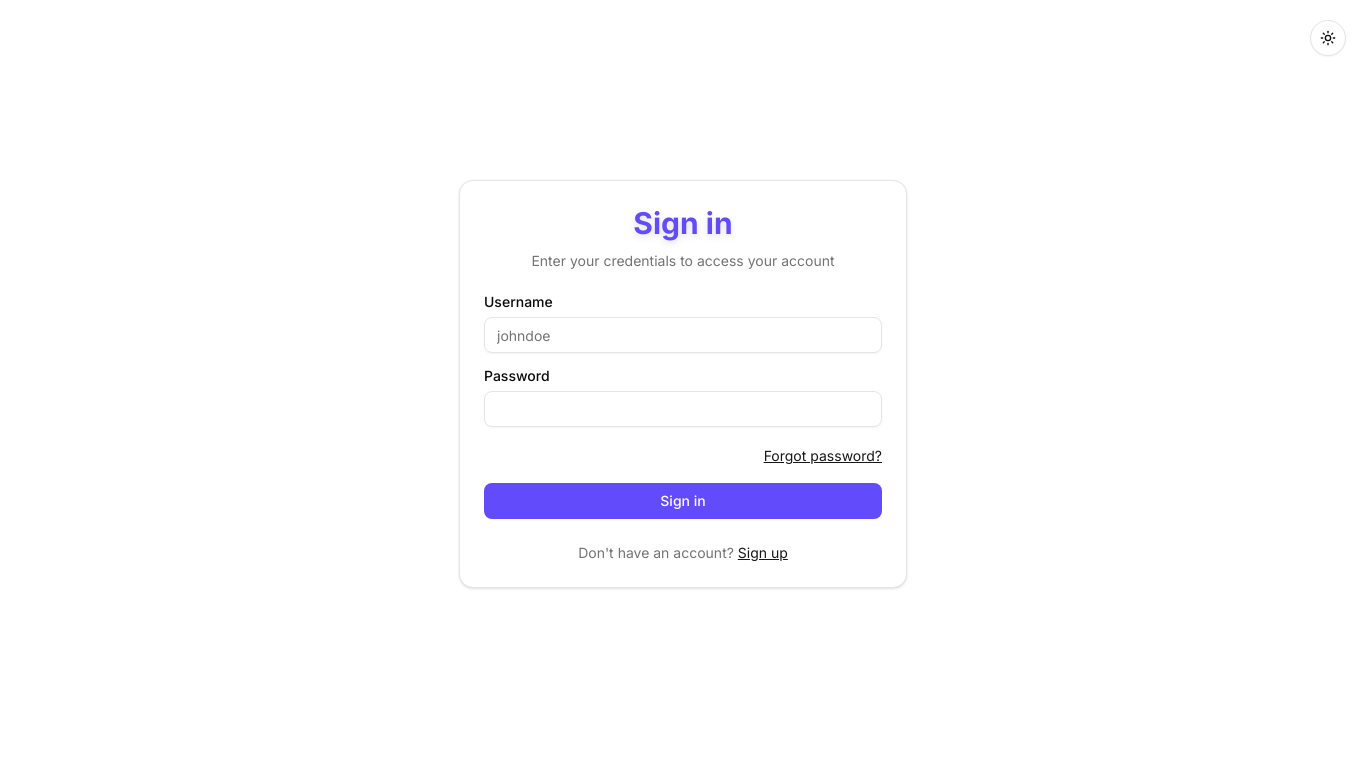
Scenario: SignInPage › disables the submit button during form submission
// Fill in the form
Type "testuser" into the field labelled "Username".
click(683, 335); type("testuser")  # box [484, 317, 882, 353]
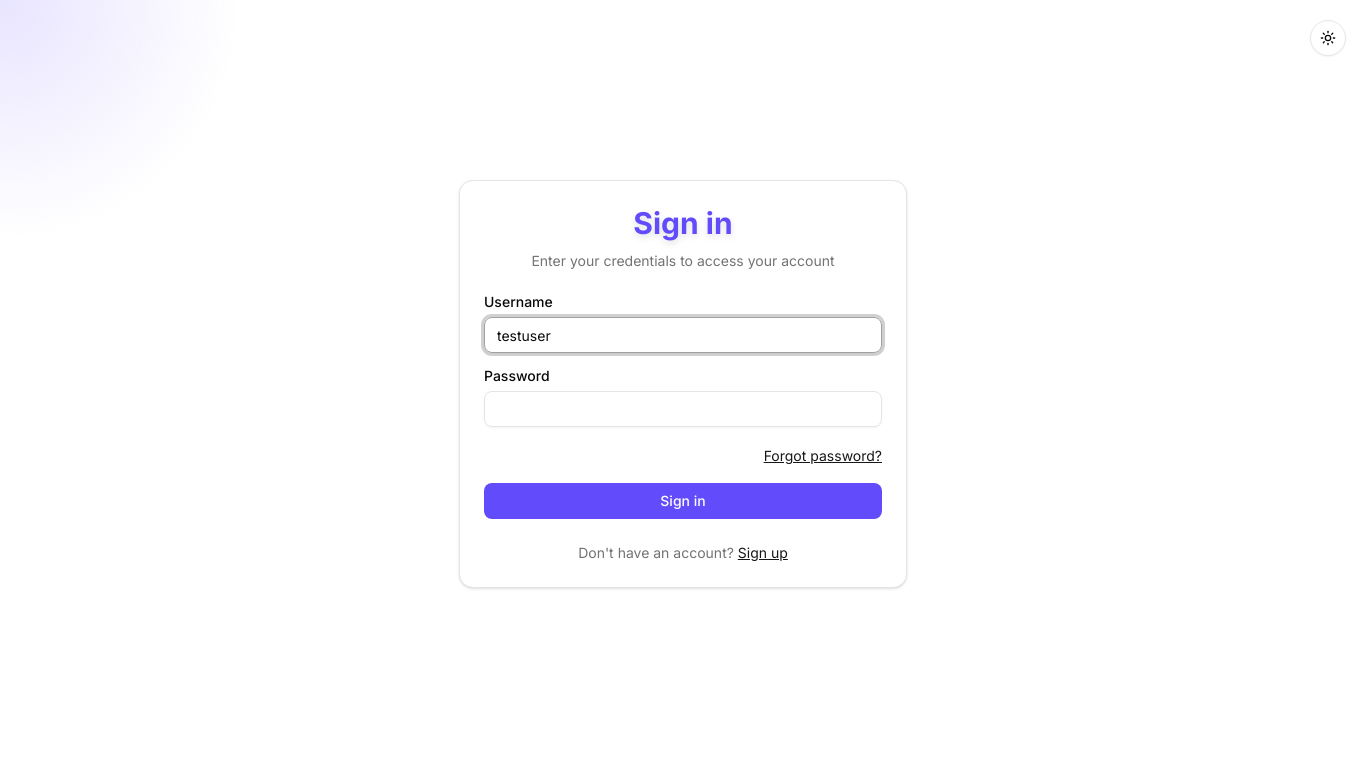
Type "password123" into the password field labelled "Password".
click(683, 409); type("password123")  # box [484, 391, 882, 427]
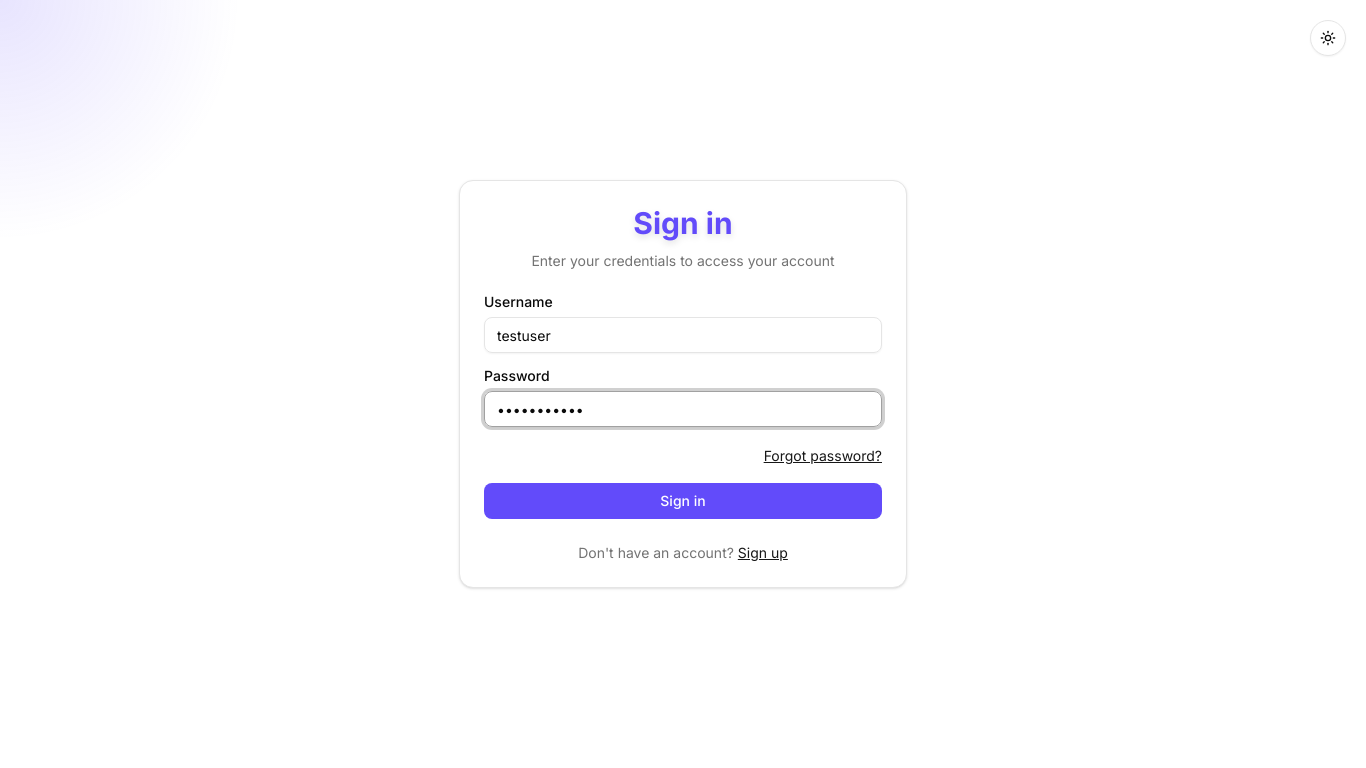
// Submit the form
Click the button "Sign in".
click(683, 501)  # box [484, 483, 882, 519]
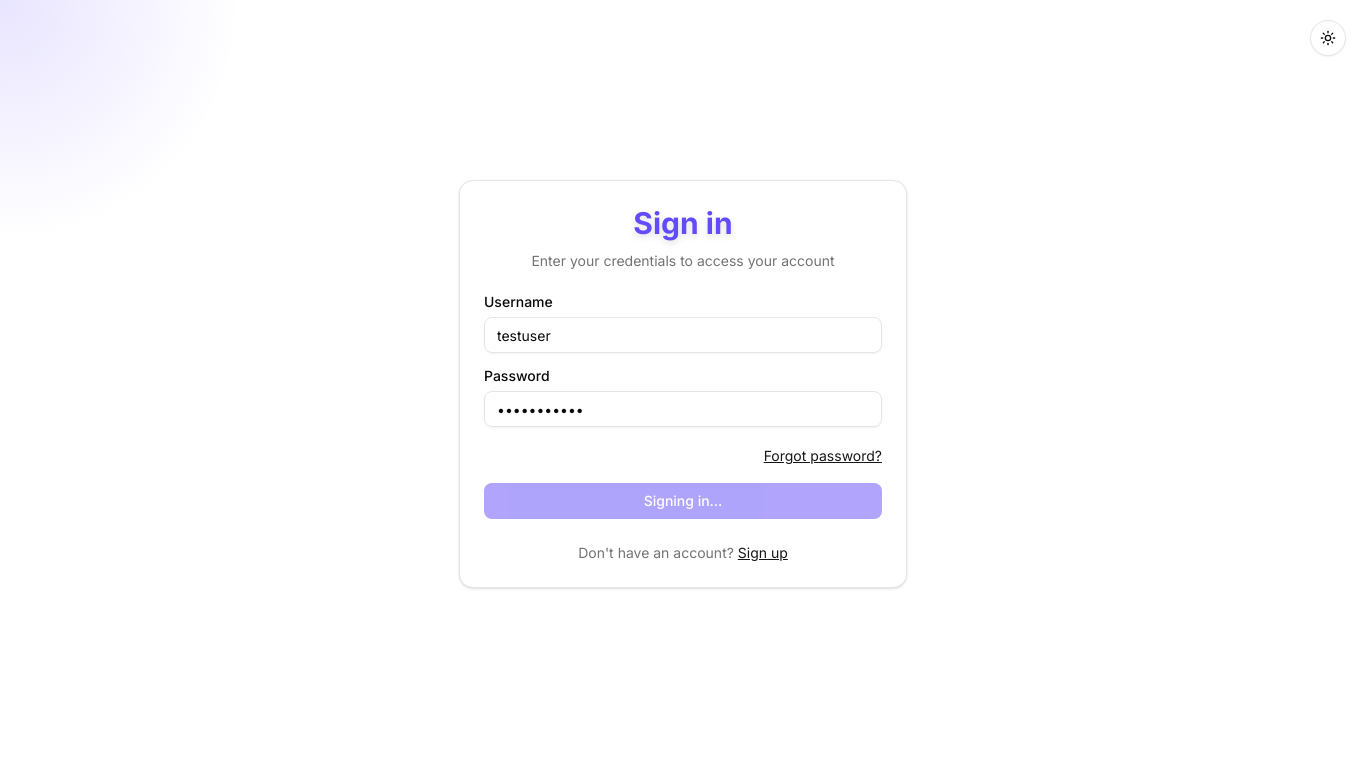
Expected: the button named "sign in" is disabled, [484, 483, 882, 519]
Expected: the button named "sign in" reads "Signing in...", [484, 483, 882, 519]
